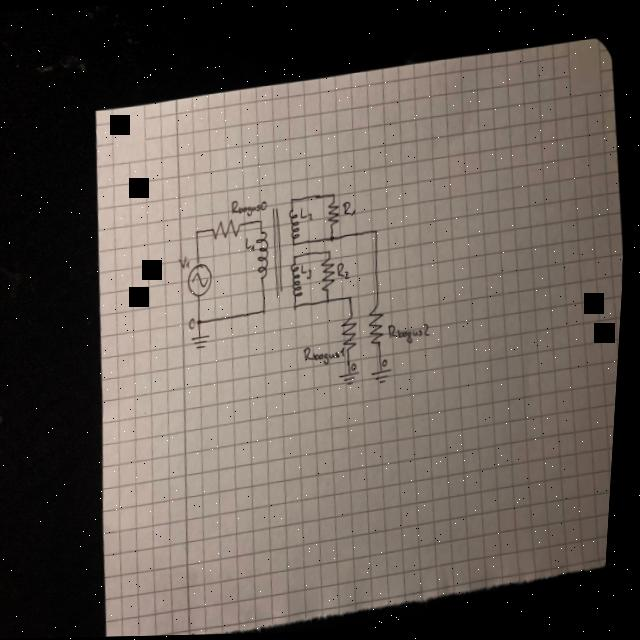ground: (375, 368, 399, 386), (194, 333, 216, 351), (342, 371, 364, 388)
junction: (293, 252, 302, 262), (373, 227, 382, 237), (329, 248, 337, 258), (331, 192, 339, 202), (328, 295, 335, 305), (296, 303, 303, 312), (349, 295, 356, 304), (196, 230, 203, 238), (260, 217, 267, 225), (290, 196, 297, 204), (331, 235, 338, 243), (293, 240, 300, 248), (200, 317, 206, 325), (265, 308, 271, 316)
resistor: (370, 303, 390, 348), (213, 218, 245, 242), (343, 316, 362, 354), (322, 256, 340, 293), (329, 199, 343, 229)
source: (188, 262, 216, 298)
text: (390, 321, 436, 347), (306, 345, 351, 367), (232, 199, 270, 218), (338, 262, 353, 282), (343, 202, 359, 218), (300, 207, 316, 223), (302, 264, 316, 281), (246, 237, 260, 253), (181, 254, 194, 270), (191, 317, 200, 331), (354, 363, 363, 373), (385, 359, 392, 368)
transformer: (254, 204, 312, 306)
